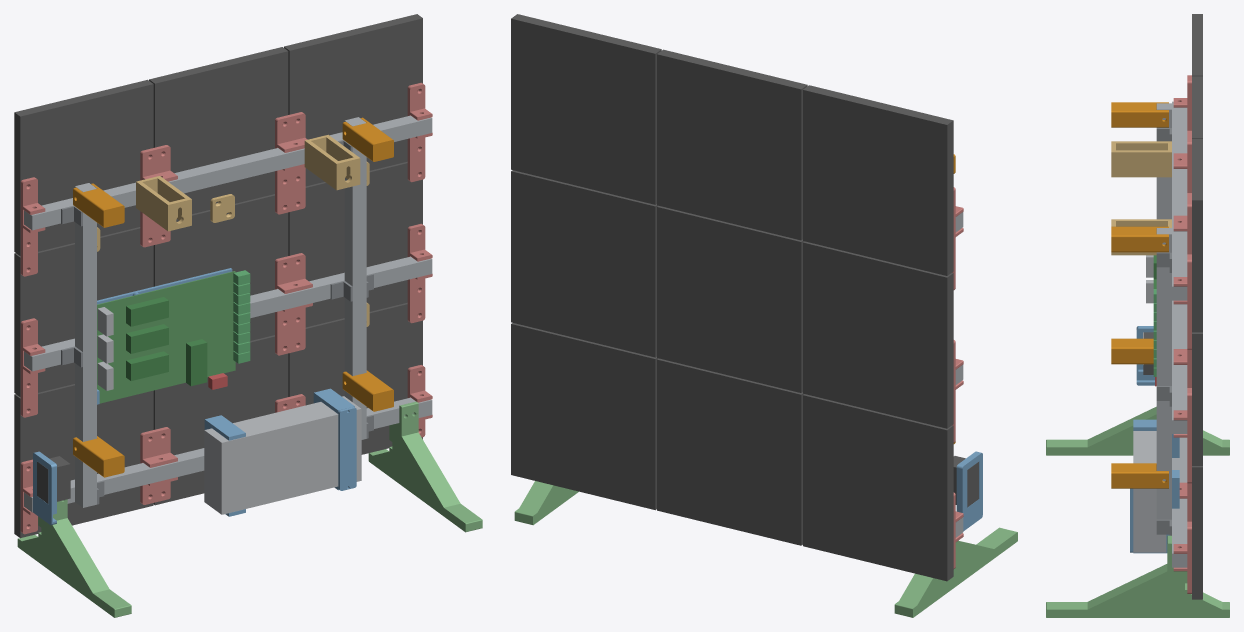
Rendered from cadre.glb.
3 renders of one model, left to right at view 1: azimuth 30°, elevation 25°; view 2: azimuth 150°, elevation 25°; view 3: azimuth 270°, elevation 25°, orthographic. The views are drawn at different scales.
Visible parts, largest first — view 1: 006 dalle 7, 007 dalle 8, 008 dalle 9, 060 alimentation 5 V 30 A, 005 dalle 6, 003 dalle 4, 042 carte, 000 dalle 1, 004 dalle 5, 001 dalle 2, 002 dalle 3, 012 montant gauche (+32 smaller); view 2: 006 dalle 7, 000 dalle 1, 003 dalle 4, 008 dalle 9, 007 dalle 8, 001 dalle 2, 005 dalle 6, 002 dalle 3, 004 dalle 5, 072 pied, 073 pied, 064 support de prise; view 3: 073 pied, 013 montant droit, 072 pied, 011 profilé de rangée (7, 8, 9), 060 alimentation 5 V 30 A, 066 crochet mural, 008 dalle 9, 010 profilé de rangée (4, 5, 6), 071 patin arrière, 002 dalle 3, 005 dalle 6, 069 patin arrière (+19 smaller).
Boxes of the visible parts, left/top/right/bottom form: 006 dalle 7: left=14, top=79, right=153, bottom=255; 007 dalle 8: left=149, top=47, right=288, bottom=213; 008 dalle 9: left=284, top=14, right=422, bottom=186; 060 alimentation 5 V 30 A: left=204, top=396, right=361, bottom=514; 005 dalle 6: left=288, top=161, right=422, bottom=327; 003 dalle 4: left=14, top=227, right=153, bottom=396; 042 carte: left=97, top=271, right=235, bottom=403; 000 dalle 1: left=14, top=384, right=153, bottom=538; 004 dalle 5: left=153, top=194, right=288, bottom=340; 001 dalle 2: left=153, top=335, right=288, bottom=505; 002 dalle 3: left=288, top=302, right=422, bottom=454; 012 montant gauche: left=75, top=183, right=96, bottom=507; 006 dalle 7: left=803, top=85, right=953, bottom=275; 000 dalle 1: left=803, top=394, right=953, bottom=581; 003 dalle 4: left=803, top=241, right=953, bottom=428; 008 dalle 9: left=511, top=14, right=661, bottom=204; 007 dalle 8: left=657, top=49, right=807, bottom=240; 001 dalle 2: left=657, top=358, right=803, bottom=545; 005 dalle 6: left=511, top=170, right=657, bottom=357; 002 dalle 3: left=511, top=323, right=657, bottom=510; 004 dalle 5: left=657, top=205, right=803, bottom=392; 072 pied: left=894, top=527, right=1017, bottom=617; 073 pied: left=514, top=481, right=578, bottom=525; 064 support de prise: left=956, top=451, right=982, bottom=531; 073 pied: left=1046, top=535, right=1229, bottom=617; 013 montant droit: left=1156, top=228, right=1171, bottom=519; 072 pied: left=1046, top=406, right=1229, bottom=455; 011 profilé de rangée (7, 8, 9): left=1172, top=101, right=1187, bottom=300; 060 alimentation 5 V 30 A: left=1133, top=431, right=1166, bottom=552; 066 crochet mural: left=1111, top=141, right=1171, bottom=177; 008 dalle 9: left=1192, top=138, right=1202, bottom=332; 010 profilé de rangée (4, 5, 6): left=1172, top=300, right=1187, bottom=433; 071 patin arrière: left=1111, top=226, right=1168, bottom=252; 002 dalle 3: left=1192, top=466, right=1202, bottom=599; 005 dalle 6: left=1192, top=332, right=1202, bottom=465; 069 patin arrière: left=1111, top=102, right=1168, bottom=127.
Size of the model in its own units: 574 by 612 by 240.
